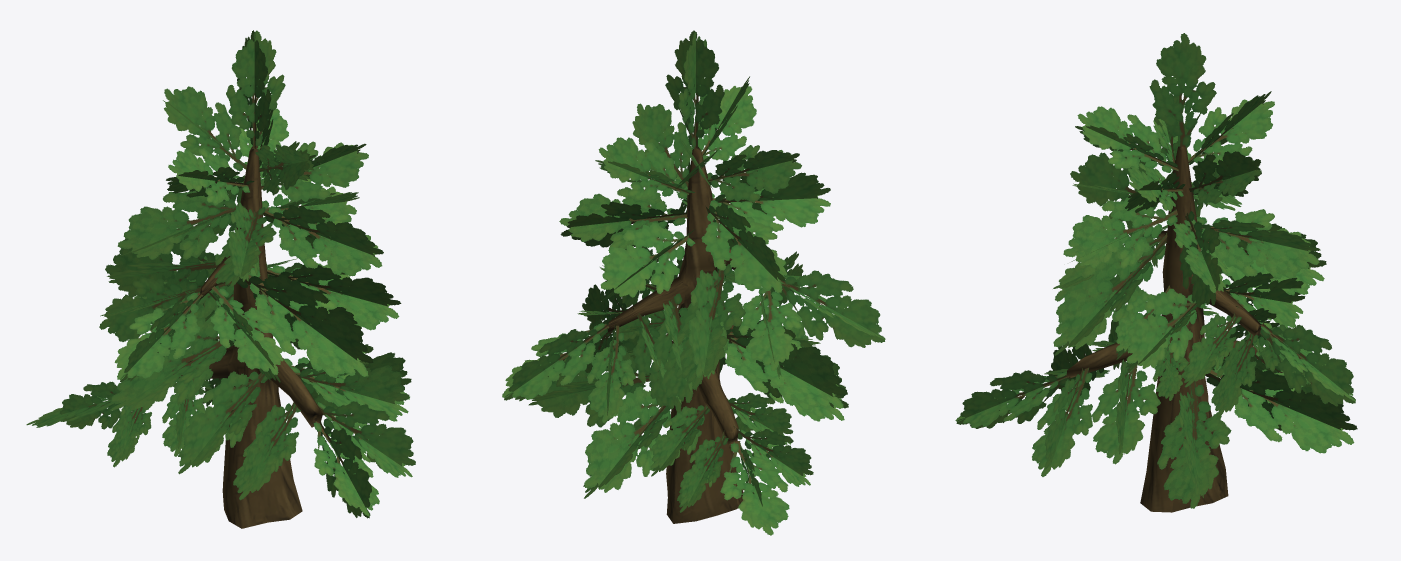
The model's file is tree1_03.fbx.
The picture shows the model from 3 angles, left to right: view 1: azimuth 30°, elevation 25°; view 2: azimuth 150°, elevation 25°; view 3: azimuth 270°, elevation 25°; orthographic projection. The views are drawn at different scales.
Visible parts, largest first — view 1: polySurface3, pPlane26, pPlane61, pPlane60, pPlane15, pPlane31, pPlane10, pPlane53, pPlane75, pPlane1, pPlane58, pPlane78 (+36 smaller); view 2: polySurface3, pPlane47, pPlane11, pPlane34, pPlane6, pPlane27, pPlane54, pPlane57, pPlane12, pPlane1, pPlane32, pPlane52 (+32 smaller); view 3: polySurface3, pPlane30, pPlane60, pPlane84, pPlane3, pPlane35, pPlane46, pPlane5, pPlane63, pPlane81, pPlane21, pPlane47 (+32 smaller).
Part boxes in pixels (<box>): polySurface3: <box>179,146,322,528</box>; pPlane26: <box>117,188,238,259</box>; pPlane61: <box>248,267,368,377</box>; pPlane60: <box>237,274,373,363</box>; pPlane15: <box>164,86,246,171</box>; pPlane31: <box>262,206,382,276</box>; pPlane10: <box>114,292,203,379</box>; pPlane53: <box>111,317,234,410</box>; pPlane75: <box>179,371,265,466</box>; pPlane1: <box>226,30,285,148</box>; pPlane58: <box>210,286,283,374</box>; pPlane78: <box>318,401,415,468</box>; polySurface3: <box>607,147,743,523</box>; pPlane47: <box>584,386,670,492</box>; pPlane11: <box>780,270,885,347</box>; pPlane34: <box>600,222,695,297</box>; pPlane6: <box>720,441,789,535</box>; pPlane27: <box>701,200,787,292</box>; pPlane54: <box>673,260,745,388</box>; pPlane57: <box>738,286,802,371</box>; pPlane12: <box>598,137,688,200</box>; pPlane1: <box>665,30,724,148</box>; pPlane32: <box>559,187,687,248</box>; pPlane52: <box>725,333,843,410</box>; polySurface3: <box>1066,146,1261,512</box>; pPlane30: <box>1063,197,1177,268</box>; pPlane60: <box>1053,233,1167,349</box>; pPlane84: <box>1157,380,1231,508</box>; pPlane3: <box>1149,33,1216,146</box>; pPlane35: <box>1196,209,1319,279</box>; pPlane46: <box>1209,366,1354,453</box>; pPlane5: <box>1260,323,1355,406</box>; pPlane63: <box>1126,288,1205,368</box>; pPlane81: <box>1091,364,1160,464</box>; pPlane21: <box>1077,106,1178,172</box>; pPlane47: <box>1205,368,1357,430</box>.
Size of the model in its own units: 988 by 1207 by 1060.
